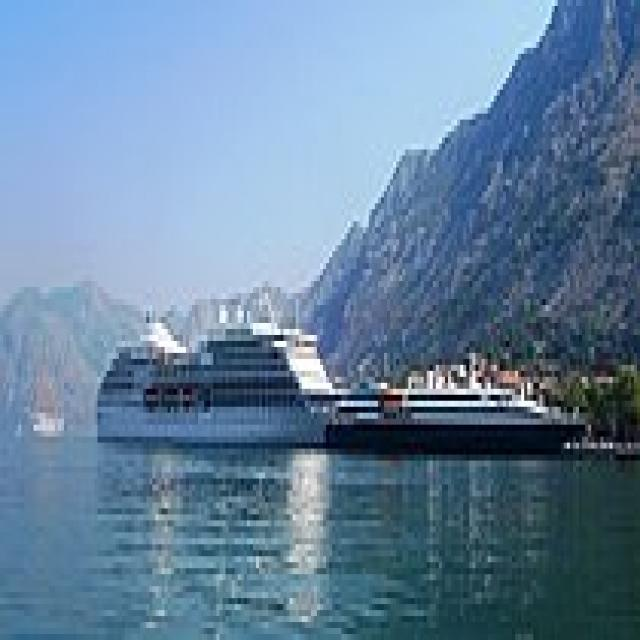Ship: (90, 282, 343, 462)
